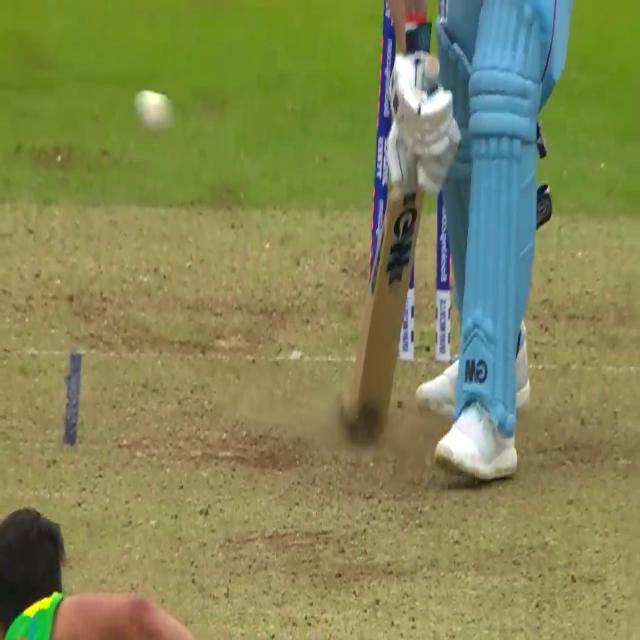ball: (132, 84, 170, 134)
